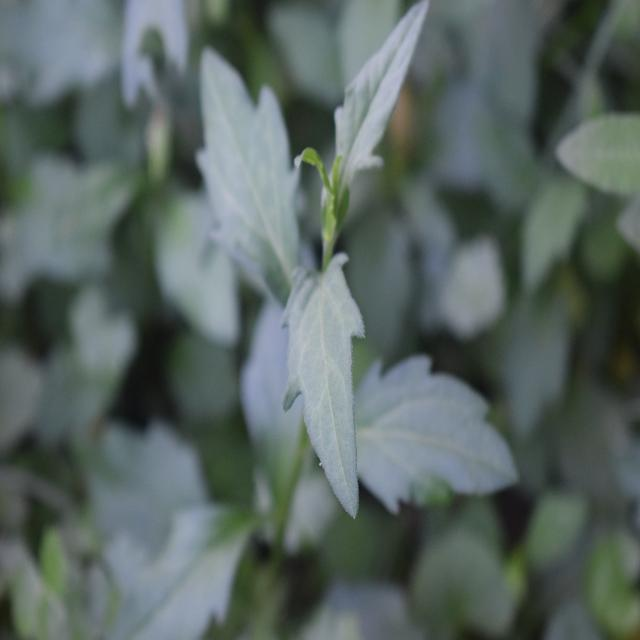Indian aster: (176, 0, 501, 554)
